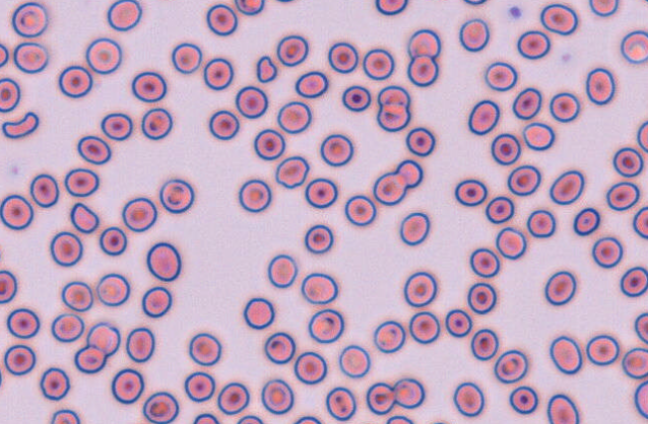PLT: (509, 5, 522, 21)
RBC: (146, 241, 181, 281), (85, 37, 122, 74), (11, 1, 48, 37), (549, 335, 582, 374), (308, 308, 344, 343), (549, 169, 584, 205), (121, 197, 157, 232), (159, 178, 194, 213), (110, 368, 144, 404), (260, 378, 294, 414), (403, 271, 437, 307), (300, 272, 338, 304), (540, 3, 578, 35), (372, 171, 407, 205), (86, 321, 120, 356), (493, 349, 528, 383), (49, 231, 83, 266), (95, 272, 130, 306), (0, 194, 33, 230), (276, 100, 312, 133), (467, 99, 500, 135), (142, 391, 179, 423), (452, 381, 484, 417), (585, 67, 615, 105), (293, 351, 327, 384), (188, 332, 221, 366), (319, 133, 353, 166), (58, 65, 92, 98), (238, 178, 271, 212), (544, 270, 576, 305), (13, 41, 48, 73), (131, 70, 166, 102), (106, 0, 142, 31), (216, 381, 249, 414), (235, 85, 268, 118), (338, 344, 370, 378), (507, 164, 541, 196), (125, 326, 155, 362), (406, 54, 438, 87), (263, 331, 295, 364), (408, 311, 440, 344), (373, 320, 405, 353), (6, 307, 40, 338), (325, 386, 356, 420), (585, 334, 619, 365), (267, 253, 297, 288), (64, 167, 99, 197), (344, 194, 376, 226), (242, 297, 274, 329), (591, 236, 623, 268), (253, 128, 285, 160), (362, 48, 394, 80), (276, 34, 308, 66), (3, 344, 36, 375), (392, 377, 425, 408), (39, 367, 70, 400), (304, 177, 337, 208), (495, 226, 526, 259), (458, 18, 489, 51), (206, 3, 237, 36), (141, 107, 172, 140), (399, 211, 429, 245), (29, 173, 59, 207), (183, 371, 215, 402), (61, 280, 93, 311), (327, 41, 358, 73), (490, 133, 521, 165), (407, 28, 440, 58), (73, 344, 106, 374), (546, 393, 579, 423), (51, 312, 84, 342), (365, 381, 395, 414), (484, 61, 517, 91), (606, 181, 639, 211), (203, 57, 233, 90), (376, 103, 410, 132), (516, 30, 550, 59), (77, 135, 111, 164), (612, 146, 643, 177), (141, 286, 172, 317), (171, 42, 202, 73), (208, 109, 239, 140), (466, 282, 496, 314), (512, 87, 542, 119), (294, 70, 328, 98), (469, 247, 500, 277), (549, 92, 580, 122), (522, 121, 554, 150), (454, 178, 487, 206), (100, 112, 133, 140), (620, 30, 647, 64), (405, 126, 435, 156), (470, 328, 498, 360), (508, 385, 538, 414), (304, 223, 333, 253), (619, 266, 647, 297), (394, 159, 423, 188), (526, 209, 555, 238), (621, 347, 647, 379), (444, 308, 472, 337), (99, 226, 127, 255), (485, 195, 514, 223), (341, 85, 371, 112), (573, 207, 600, 236), (377, 85, 409, 108), (0, 77, 20, 112), (0, 269, 17, 303), (633, 380, 647, 419), (632, 206, 647, 238), (588, 0, 618, 16), (375, 0, 407, 15), (234, 0, 264, 15), (50, 409, 80, 423), (634, 312, 647, 344), (636, 120, 647, 152), (192, 412, 219, 423), (385, 414, 413, 423), (236, 414, 263, 423), (0, 42, 9, 67), (293, 415, 321, 423), (426, 419, 452, 424), (462, 0, 487, 5), (273, 0, 300, 3), (0, 241, 3, 263), (151, 0, 181, 1), (423, 0, 450, 1)
Schistocyte: (275, 156, 311, 190), (1, 114, 40, 139), (70, 202, 100, 233), (256, 55, 277, 83), (121, 52, 123, 56)
